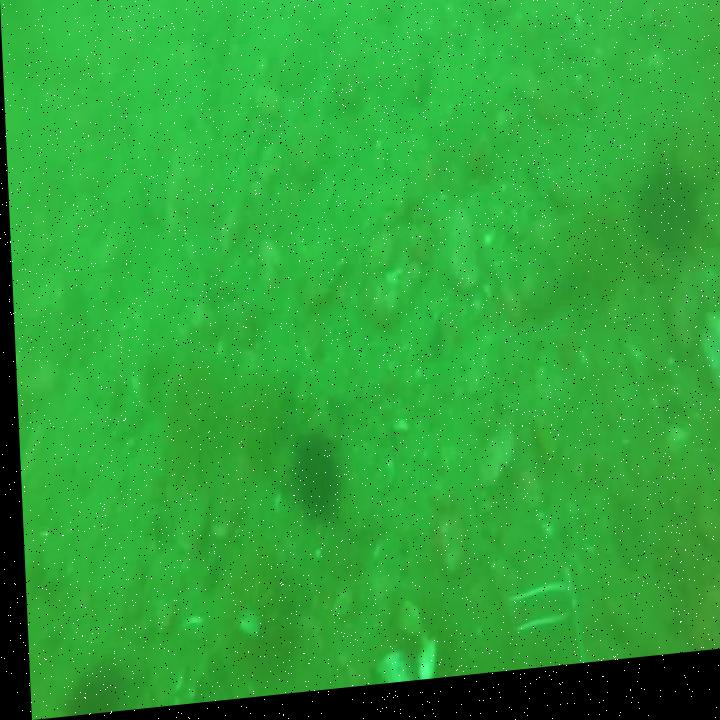echinus: (215, 564, 288, 690), (628, 170, 699, 278), (285, 437, 327, 519)
scallop: (694, 320, 720, 405), (475, 441, 512, 494), (371, 658, 398, 692), (410, 646, 430, 688), (326, 594, 347, 628)
